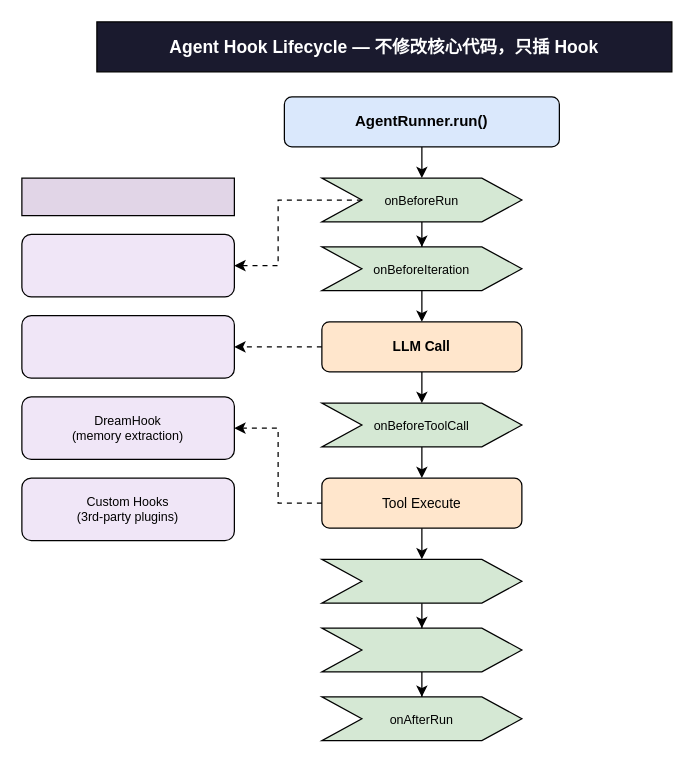
Image size: 694x763. Some labels were removed from this diagram. Here are the shapes that lost their labels. From the top down, the centre of each, then its label:
the point at 127,196: Hook Implementations
the point at 127,265: SubagentHook (track status, iterations)
the point at 127,346: StreamHook (delta, events to bus)
the point at 421,580: onAfterToolCall
the point at 421,649: onAfterIteration
